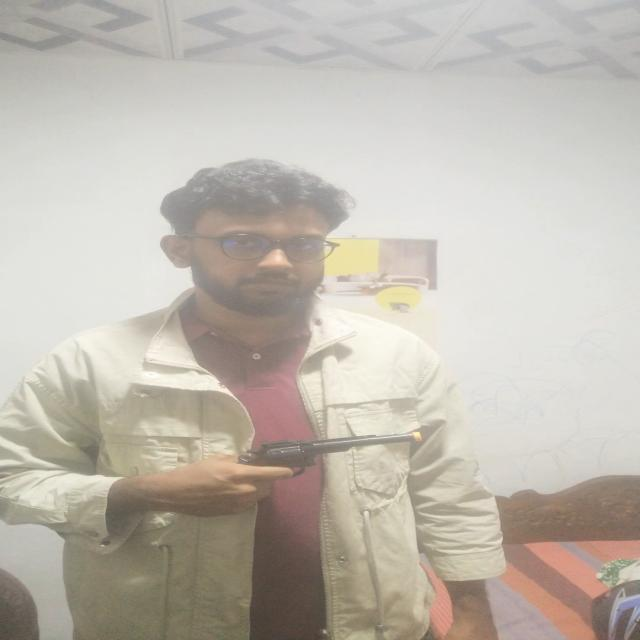Gun_Holder: (215, 426, 452, 502)
Jacket_Wearer: (5, 296, 502, 640)
Person: (19, 161, 508, 640)
